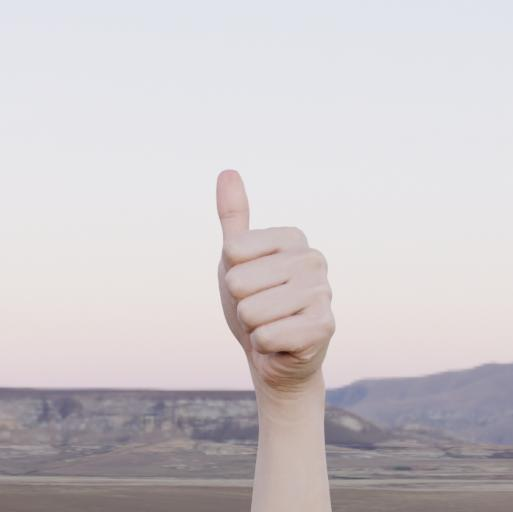thumbs-up: (208, 166, 346, 390)
